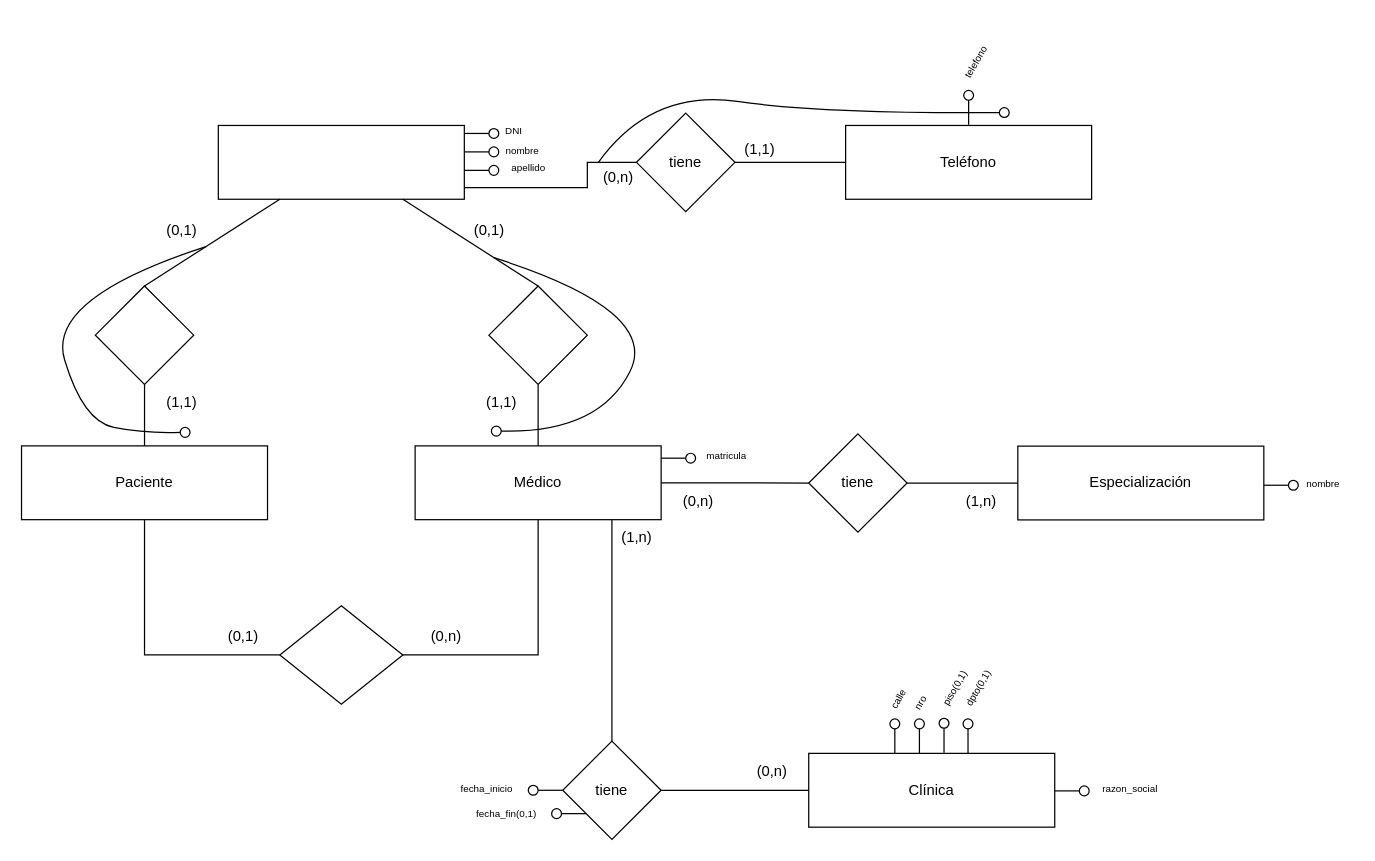
Some shapes in this 1375 by 861 pixel diagram are drawn without their labels. Each missing label, with the centre of its shape:
"es_un1" goes at (144,334).
"es_un2" goes at (537,334).
"med_cabecera" goes at (341,654).
"Persona" goes at (340,161).
